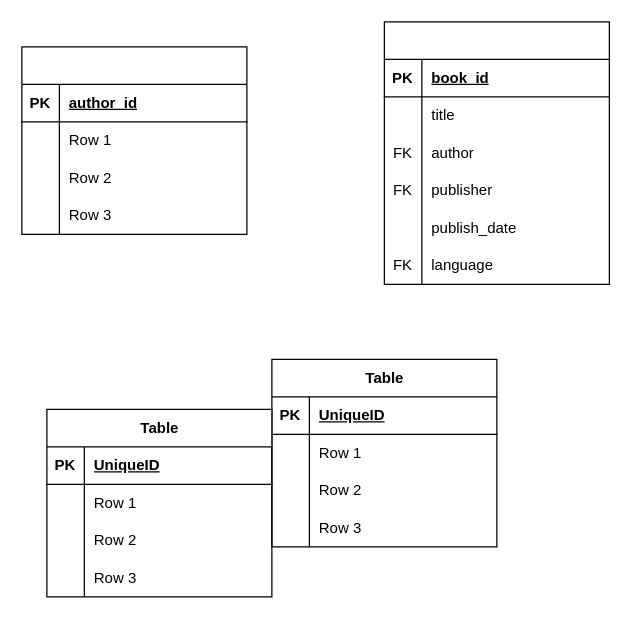
Some shapes in this 631 by 619 pixel diagram are drawn without their labels. The shapes that lost their labels are listed below. From the top down, each one's box as (x1, y1, x2, y2) in pixels, then its label:
(21, 46, 247, 234): book_authors
(383, 21, 609, 284): books
